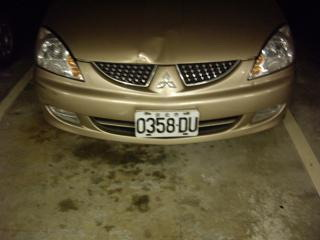plate: (133, 108, 200, 137)
